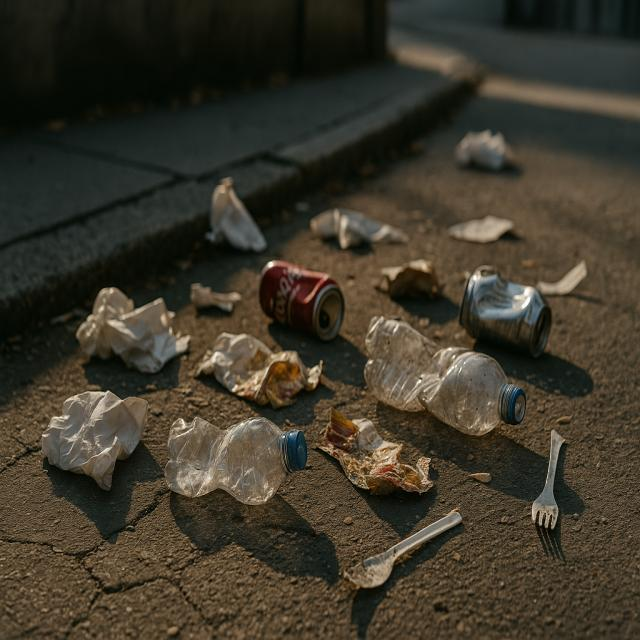aluminum: (459, 265, 552, 357), (258, 256, 344, 345)
paper: (39, 385, 149, 486), (75, 284, 189, 374)
plastic: (366, 314, 528, 440), (168, 406, 308, 511)
